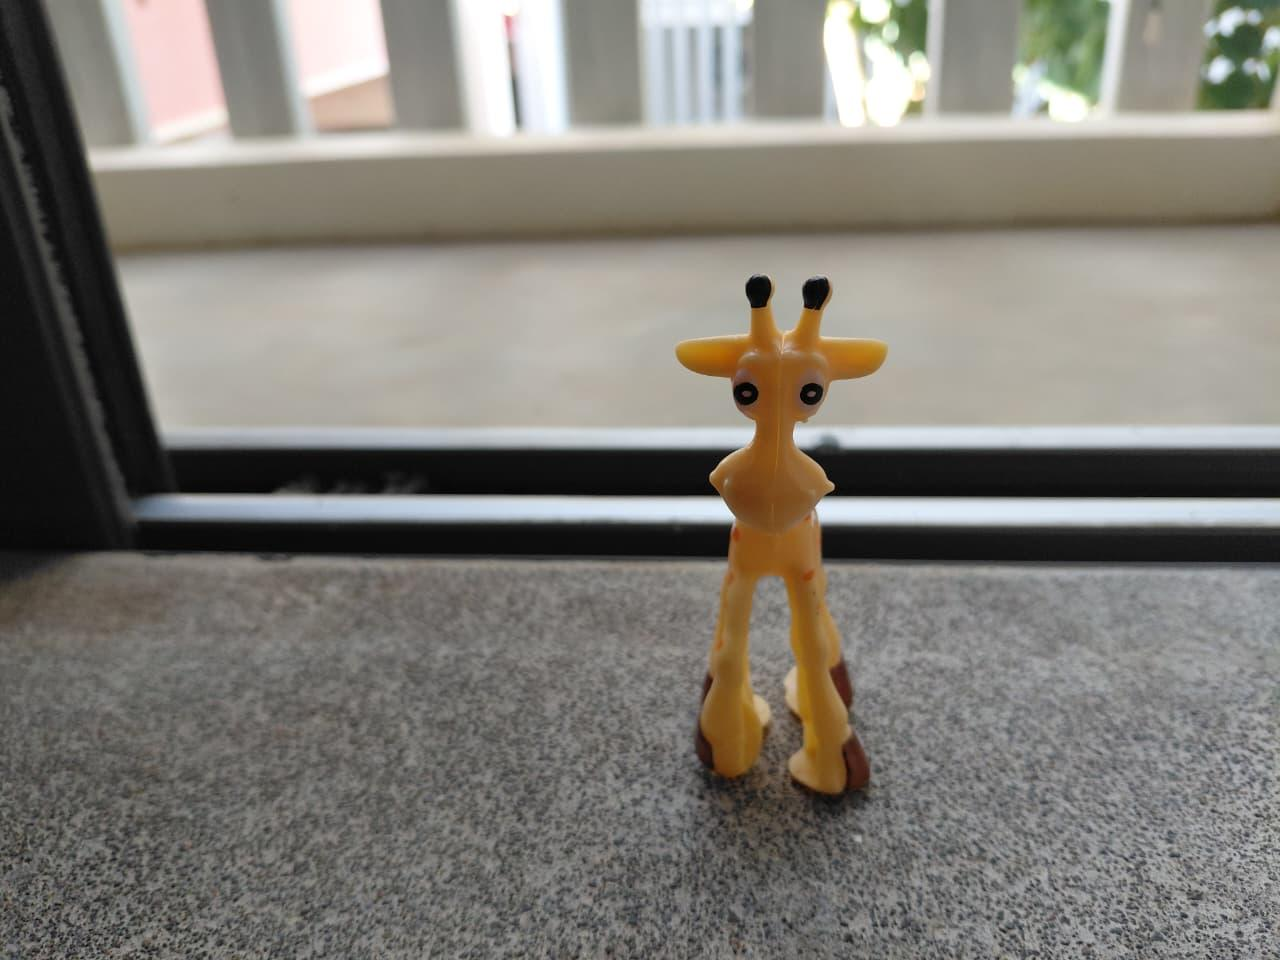giraffe: (634, 199, 926, 826)
